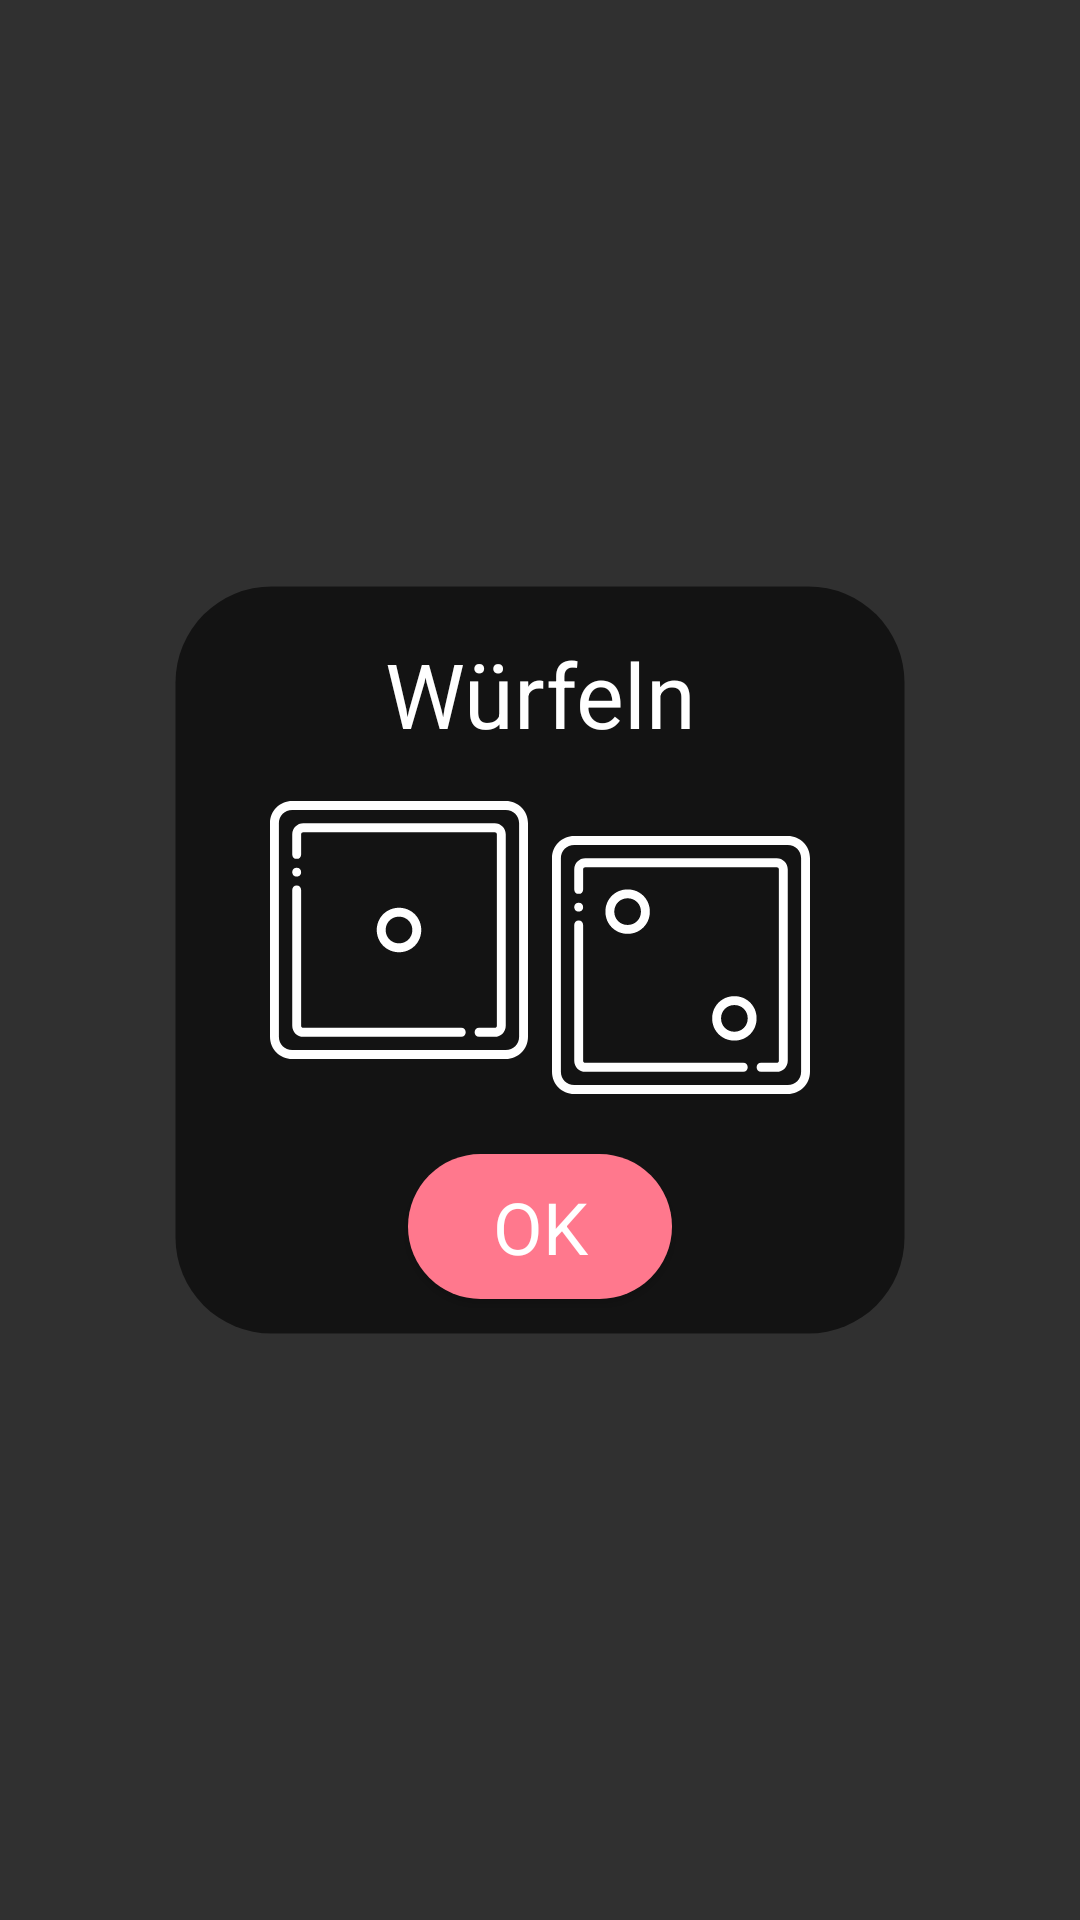

Icon click points for this 1080x1920 phone screenshot, format point (x, y):
dice: point (399, 930), point (681, 965)
